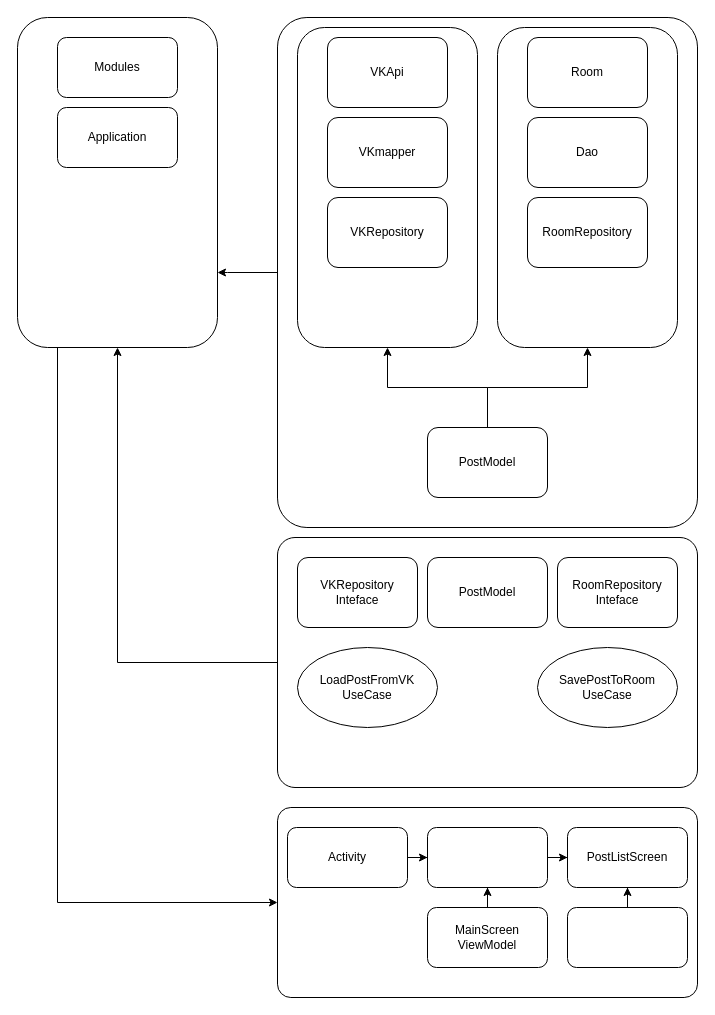
Some shapes in this 715 by 1015 pixel diagram are drawn without their labels. Each missing label, with the box of its shape:
DATA: (276, 16, 698, 528)
DI: (16, 16, 218, 348)
DOMAIN: (276, 536, 698, 788)
MainScreen: (426, 826, 548, 888)
PostCard: (566, 906, 688, 968)
PRESENTATION: (276, 806, 698, 998)
RoomRepoImpl: (496, 26, 678, 348)
VkRepoImpl: (296, 26, 478, 348)
